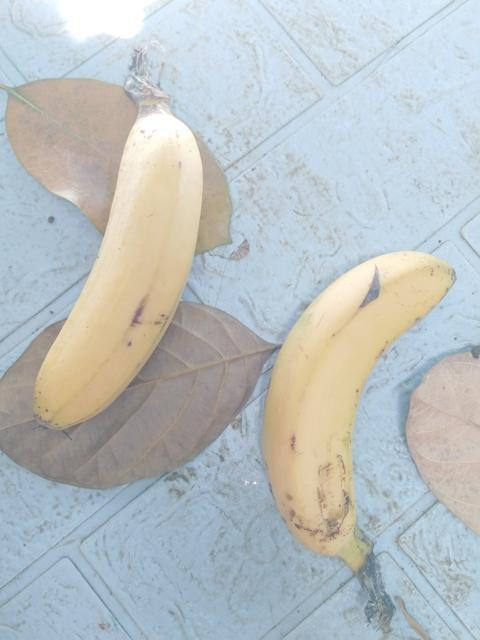freshripe: (0, 89, 221, 457)
ripe: (238, 247, 459, 578)
